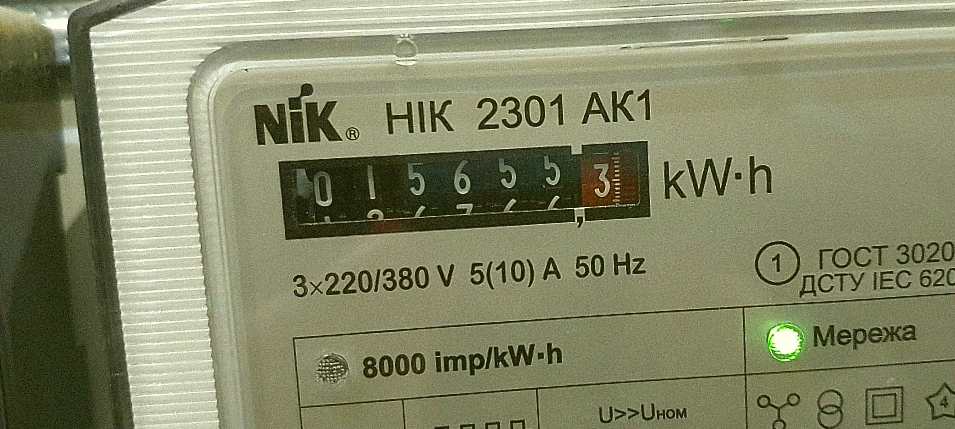0: (308, 167, 335, 209)
1: (360, 163, 381, 203)
3: (590, 161, 611, 198)
5: (402, 161, 428, 198), (494, 157, 519, 190), (541, 154, 562, 187)
6: (448, 159, 474, 196)
screen: (262, 121, 667, 257)
